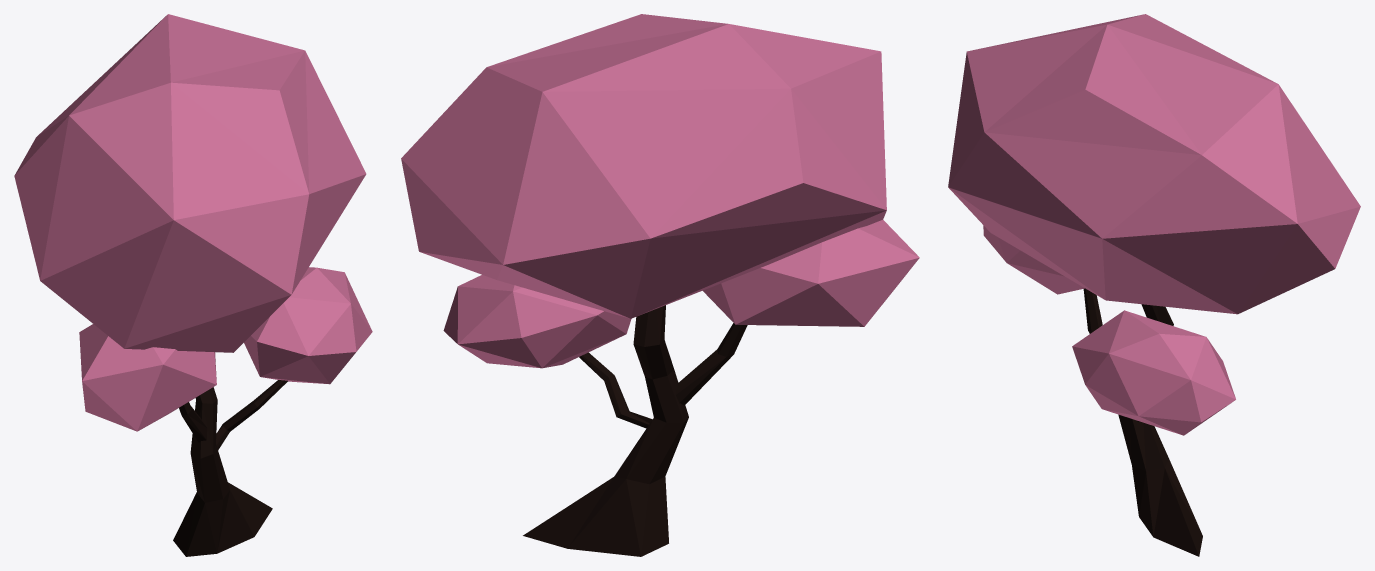
Rendered from sakura.DAE.
The picture shows the model from 3 angles, left to right: view 1: azimuth 30°, elevation 25°; view 2: azimuth 150°, elevation 25°; view 3: azimuth 270°, elevation 25°; orthographic projection. The views are drawn at different scales.
Parts seen in each view (by area): view 1: sakura; view 2: sakura; view 3: sakura.
Part boxes in pixels (left/top/right/bottom): sakura: left=14, top=14, right=372, bottom=556; sakura: left=401, top=14, right=919, bottom=556; sakura: left=948, top=14, right=1360, bottom=556.
Bounding box in the file's own units: 3880 × 5007 × 4041.
